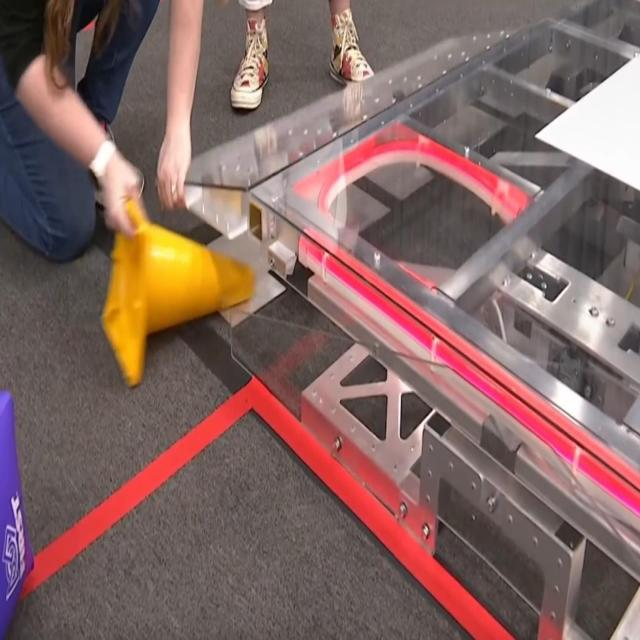frc_cone: (100, 183, 258, 393)
frc_cube: (0, 386, 34, 640)
